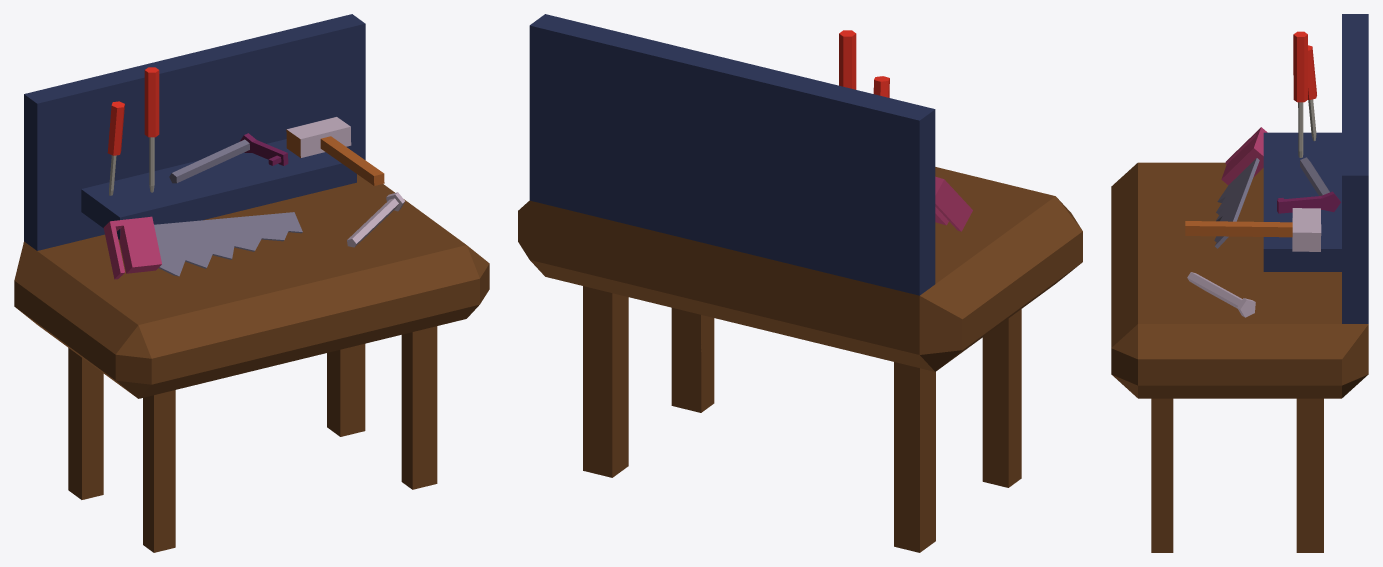
File: CraftingTable.fbx
3 views of the same model, side by side, from view 1: azimuth 30°, elevation 25°; view 2: azimuth 150°, elevation 25°; view 3: azimuth 270°, elevation 25° (orthographic). The views are drawn at different scales.
Visible parts, largest first — view 1: Workbench; view 2: Workbench; view 3: Workbench.
Boxes of the visible parts, left/top/right/bottom form: Workbench: left=14, top=14, right=489, bottom=552; Workbench: left=518, top=14, right=1082, bottom=552; Workbench: left=1111, top=14, right=1368, bottom=552.
Bounding box in the file's own units: 81.21 × 85.28 × 48.01.
